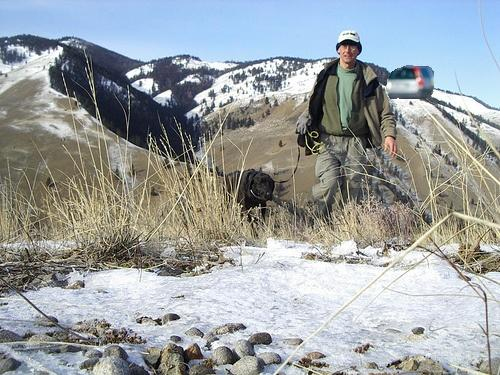tampered: (387, 66, 434, 99)
